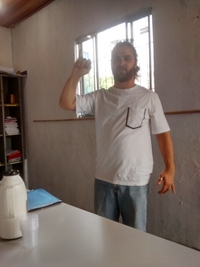oi: (68, 44, 98, 81)
